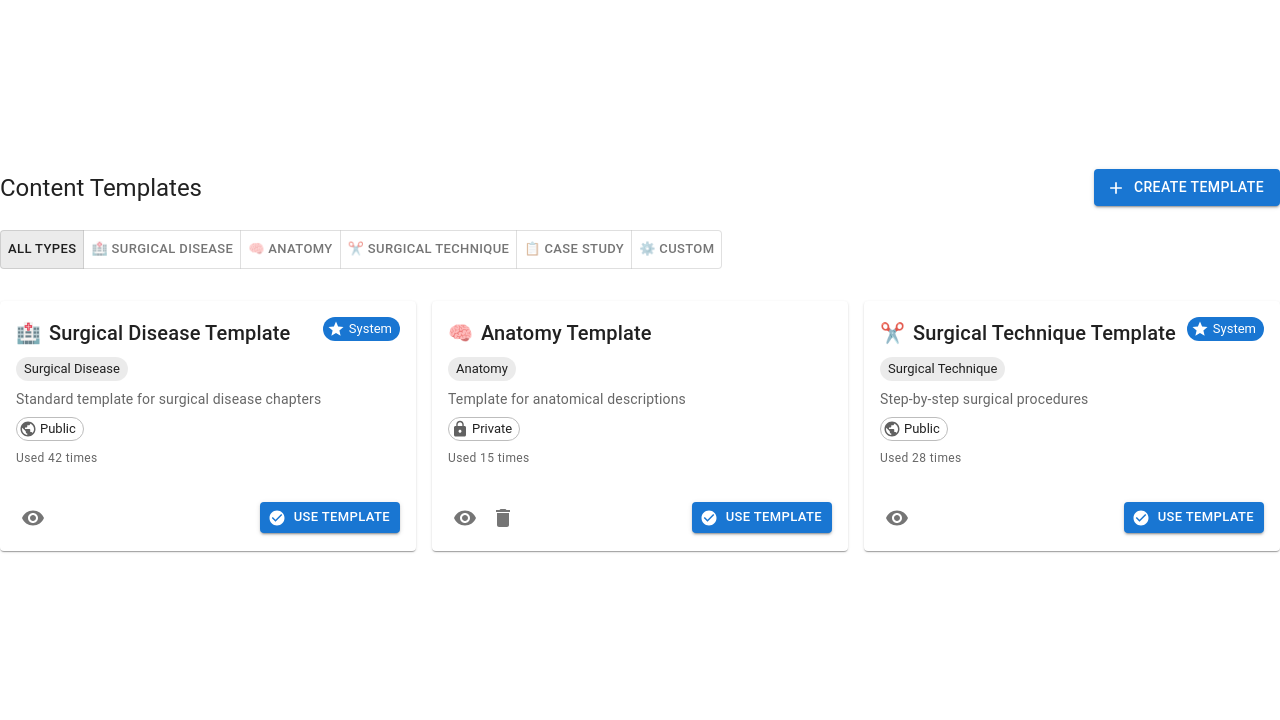
Test case: TemplateSelector Component › Preview Dialog › should open preview dialog when preview button clicked
The image size is (1280, 720).
Expected: the text "Surgical Disease Template" is shown, [49, 321, 290, 345]
Click the button named "Preview" below "42" at (33, 518), box [16, 501, 50, 535]
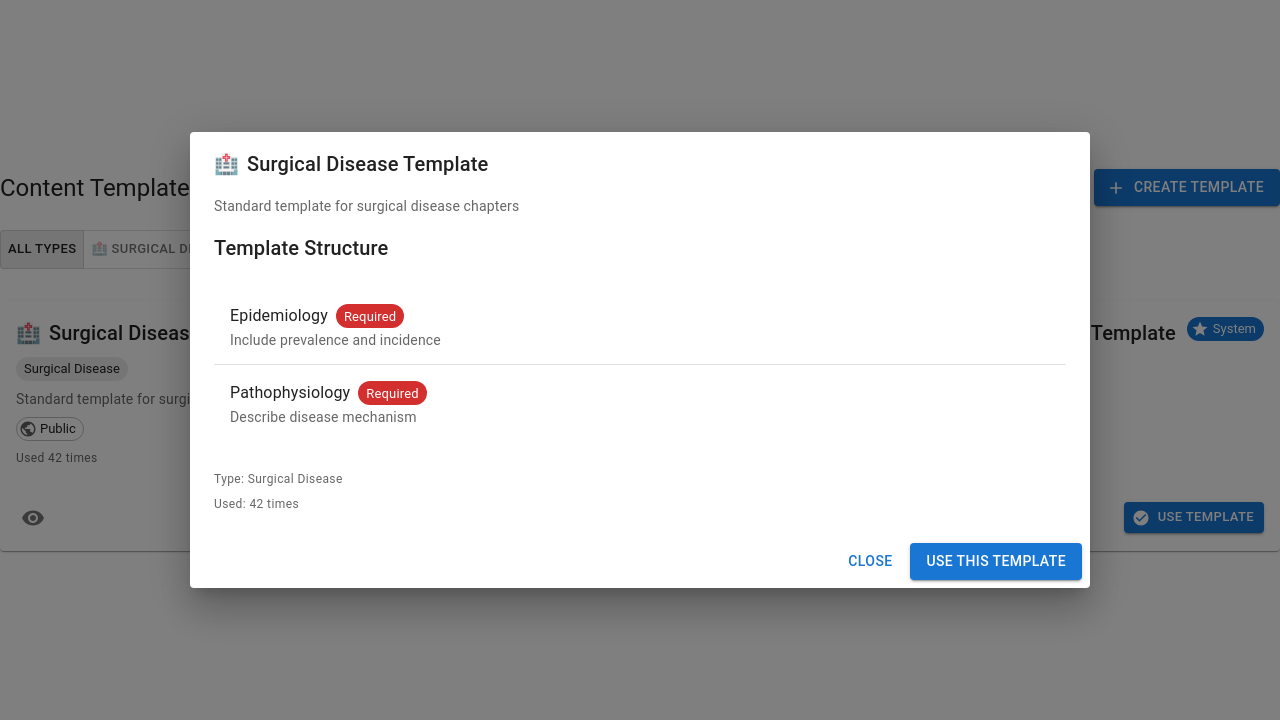
Expected: the heading "Template Structure" is shown, [214, 236, 388, 260]
